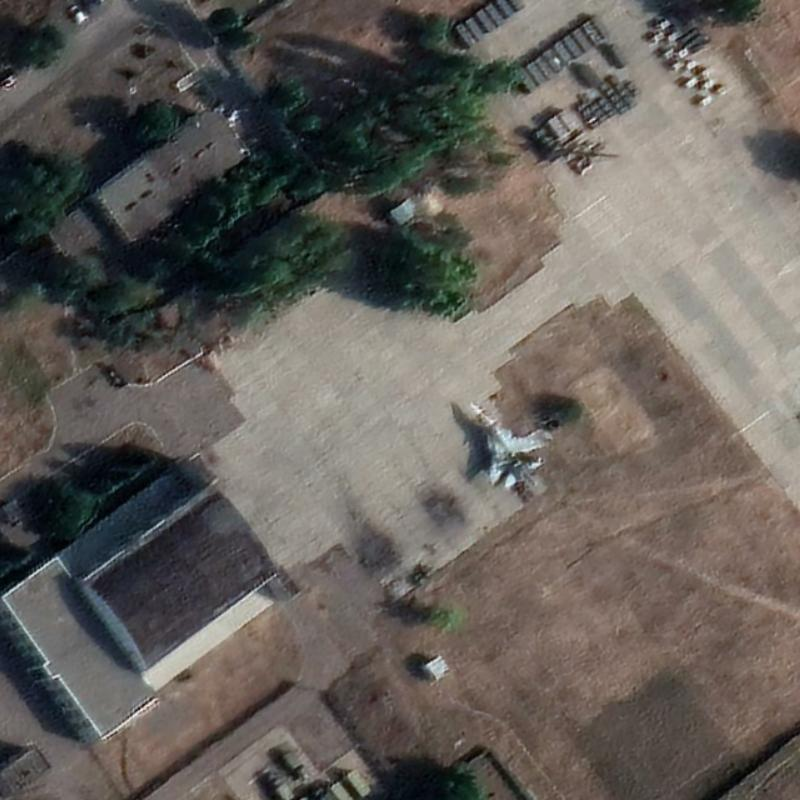A19: (463, 395, 547, 495)
